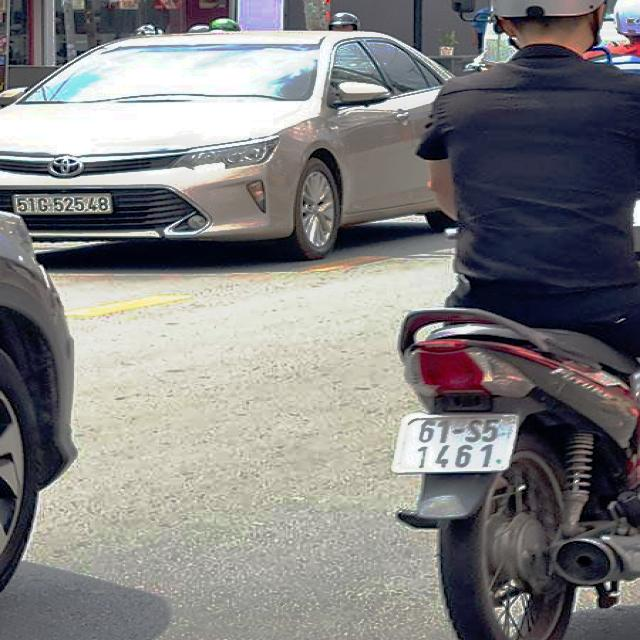license_plate: (393, 418, 521, 473), (15, 194, 111, 216)
